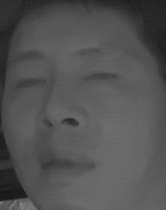eye: (82, 65, 120, 90), (11, 72, 46, 95)
mouth: (37, 143, 95, 184)
